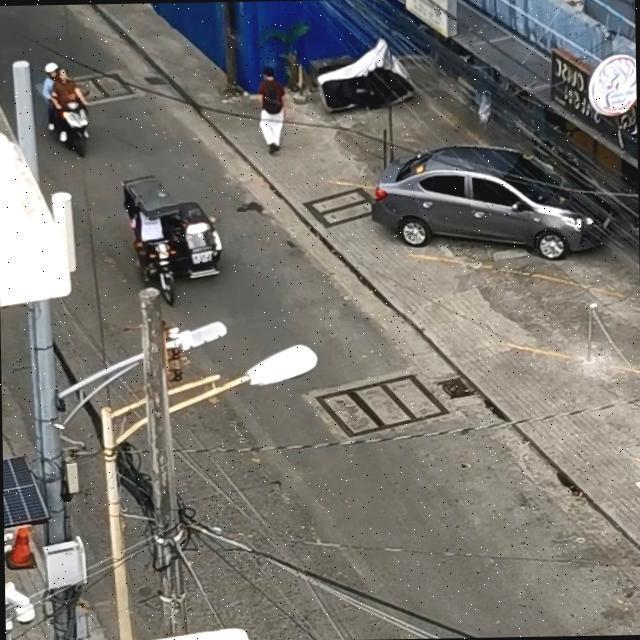Motorcycle: (28, 54, 100, 159)
Tricycle: (111, 163, 228, 321)
